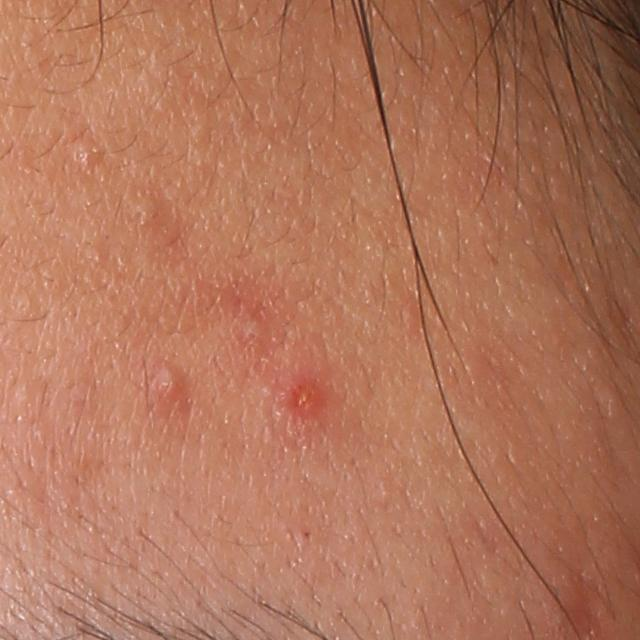comedo: (128, 194, 158, 233), (69, 138, 99, 166), (295, 523, 320, 545)
papule: (278, 376, 330, 428), (148, 362, 183, 407)
